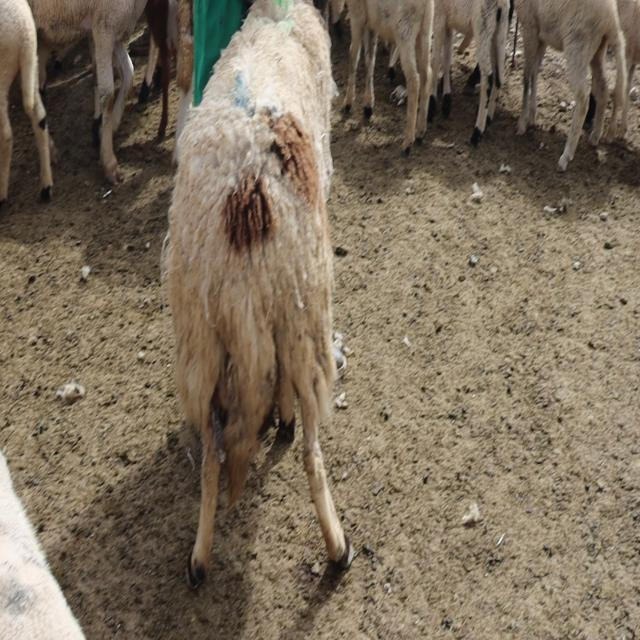Score_1: (161, 0, 351, 585)
